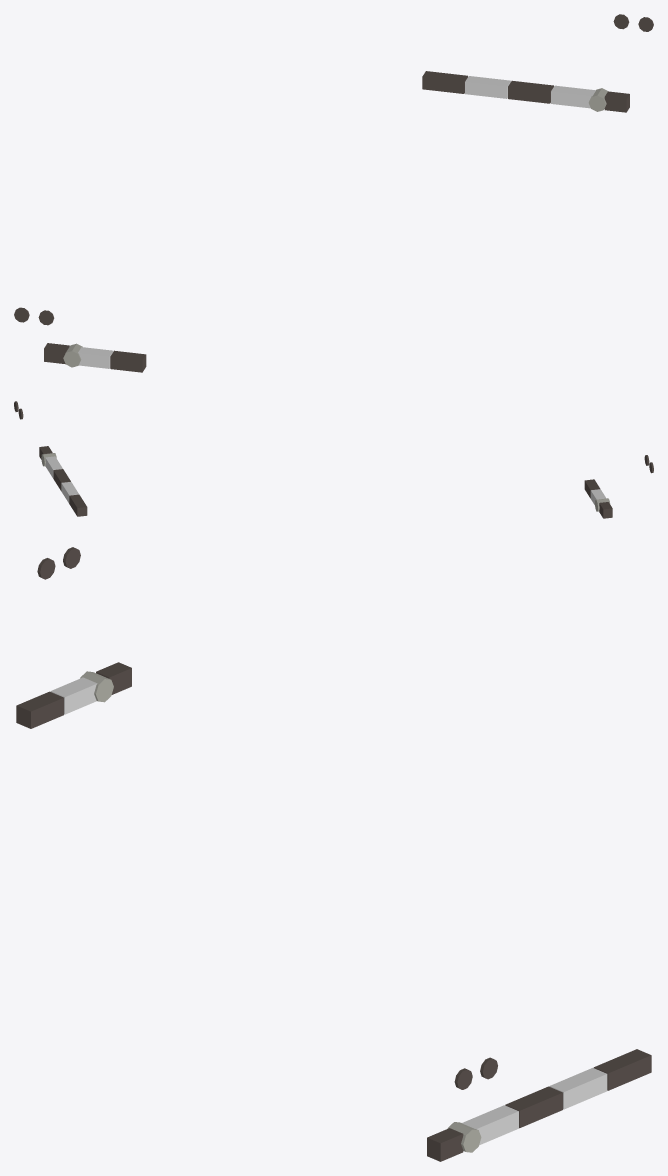
File: SM_PasoNivel_45E_v2_Abandonado_LOD1.fbx
The picture shows the model from 3 angles, top to bottom: view 1: azimuth 30°, elevation 25°; view 2: azimuth 150°, elevation 25°; view 3: azimuth 270°, elevation 25°; orthographic projection. The views are drawn at different scales.
Visible parts, largest first — view 1: Barrera_1, Barrera_2; view 2: Barrera_1, Barrera_2; view 3: Barrera_1, Barrera_2.
Part boxes in pixels (bbox=[...]): Barrera_1: bbox=[422, 71, 629, 112]; Barrera_2: bbox=[44, 343, 146, 372]; Barrera_1: bbox=[39, 446, 87, 516]; Barrera_2: bbox=[584, 479, 612, 518]; Barrera_1: bbox=[427, 1049, 651, 1161]; Barrera_2: bbox=[16, 662, 131, 728].
Size of what is drawn, in the model's own units: 19.63 by 1.91 by 9.9.
